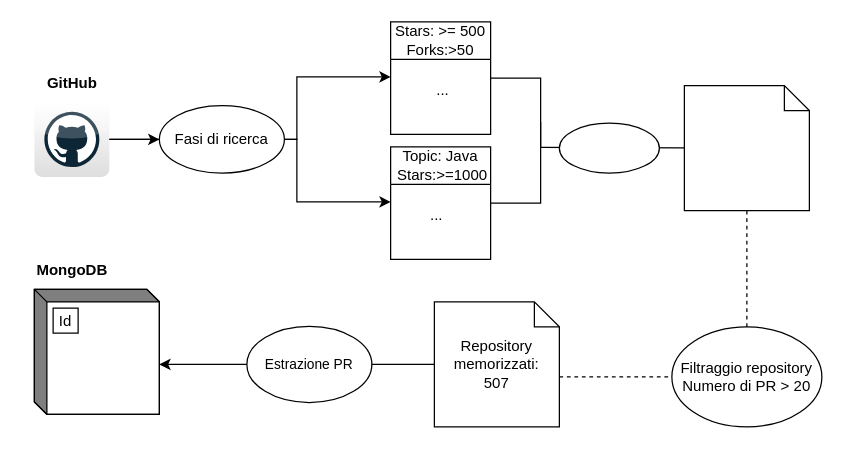
This 844x449 diagram has some shape labels left out. Here are the shapes that lost their labels. From the top down, the centre of each, then its label:
At pixel 608 147: "GitHub API".
At pixel 746 147: "Repository memorizzati: 3539".
At pixel 96 351: "Dataset finale".
